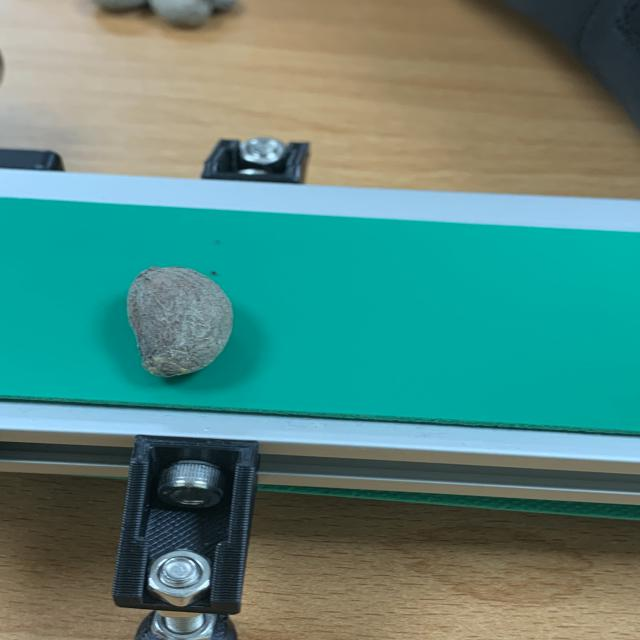Fine_cocoabeans: (41, 236, 288, 414)
